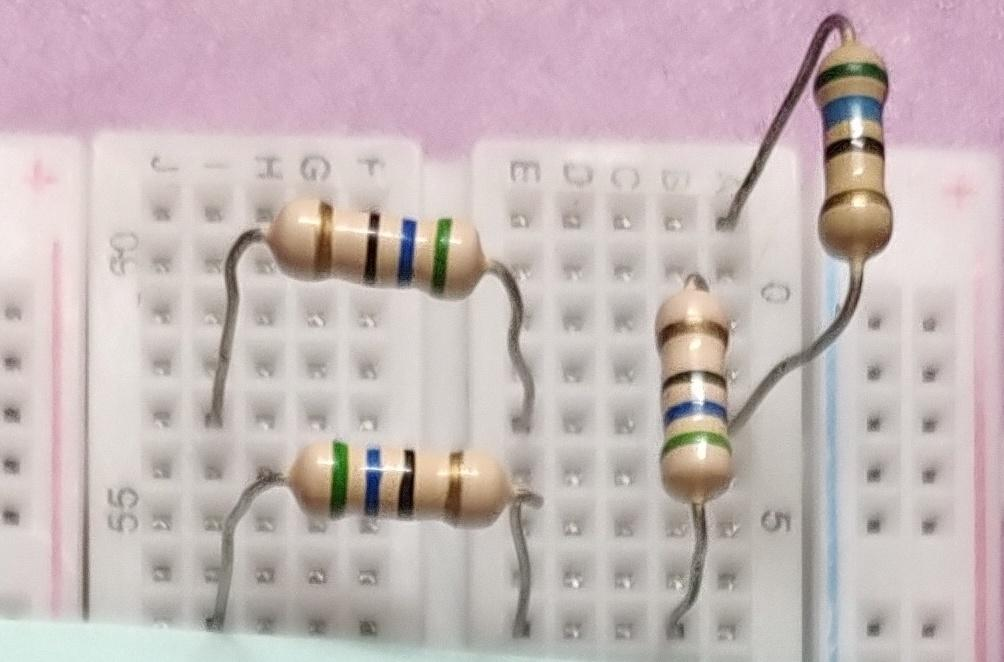resistor: (278, 427, 521, 553), (265, 188, 496, 310), (807, 30, 904, 278), (643, 277, 741, 511)
